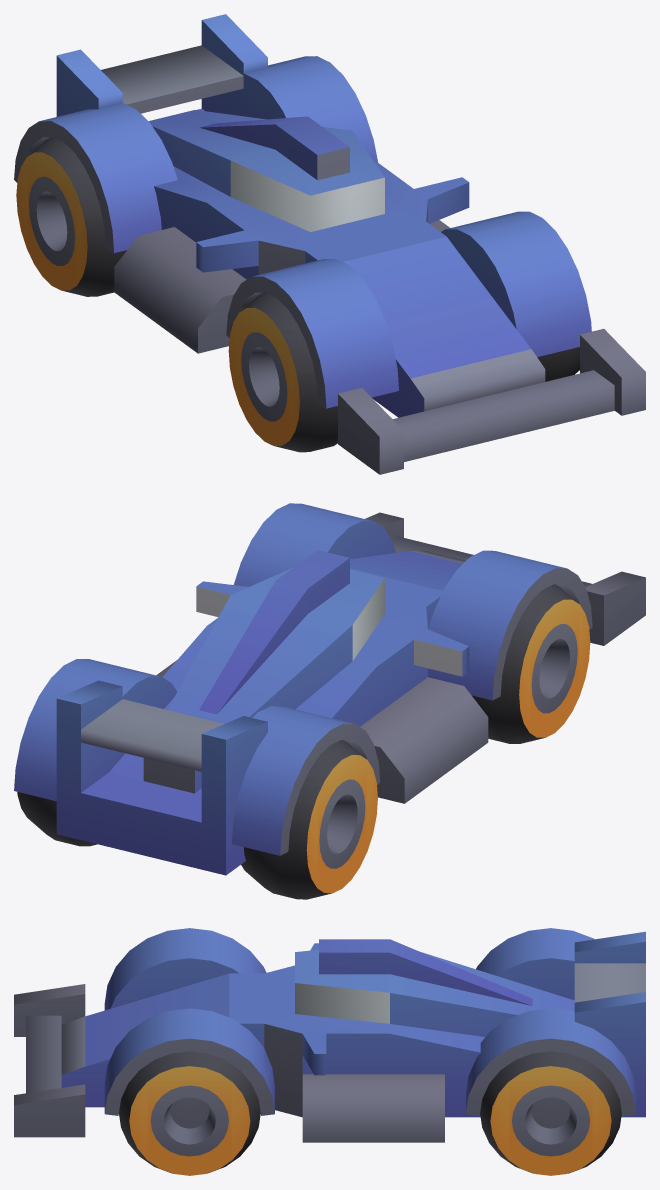
File: fut-carro.gltf
3 views of the same model, one above another, from view 1: azimuth 30°, elevation 25°; view 2: azimuth 150°, elevation 25°; view 3: azimuth 270°, elevation 25° (orthographic). The views are drawn at different scales.
Visible parts, largest first — view 1: body; view 2: body; view 3: body.
Part boxes in pixels (<box>): body: <box>14,14,645,474</box>; body: <box>14,503,645,899</box>; body: <box>14,928,645,1175</box>.
Size of the model in its own units: 1.15 by 0.7993 by 2.55.
1 material, 1 textured.
